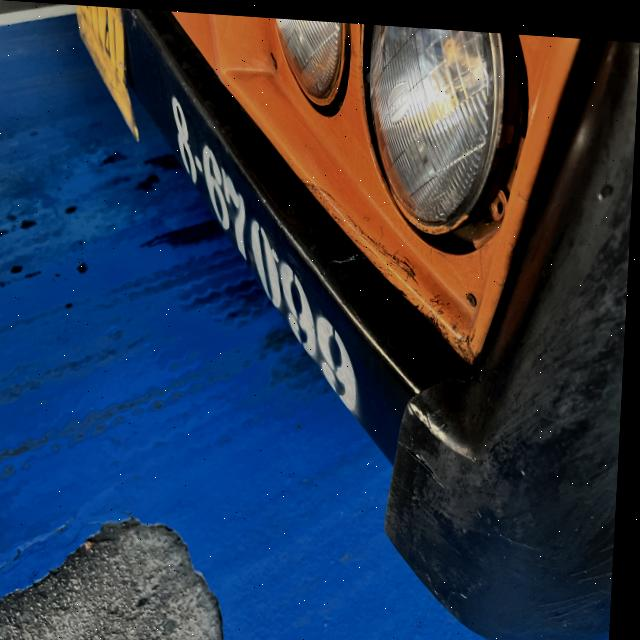BMTA-bus: (37, 3, 640, 640)
